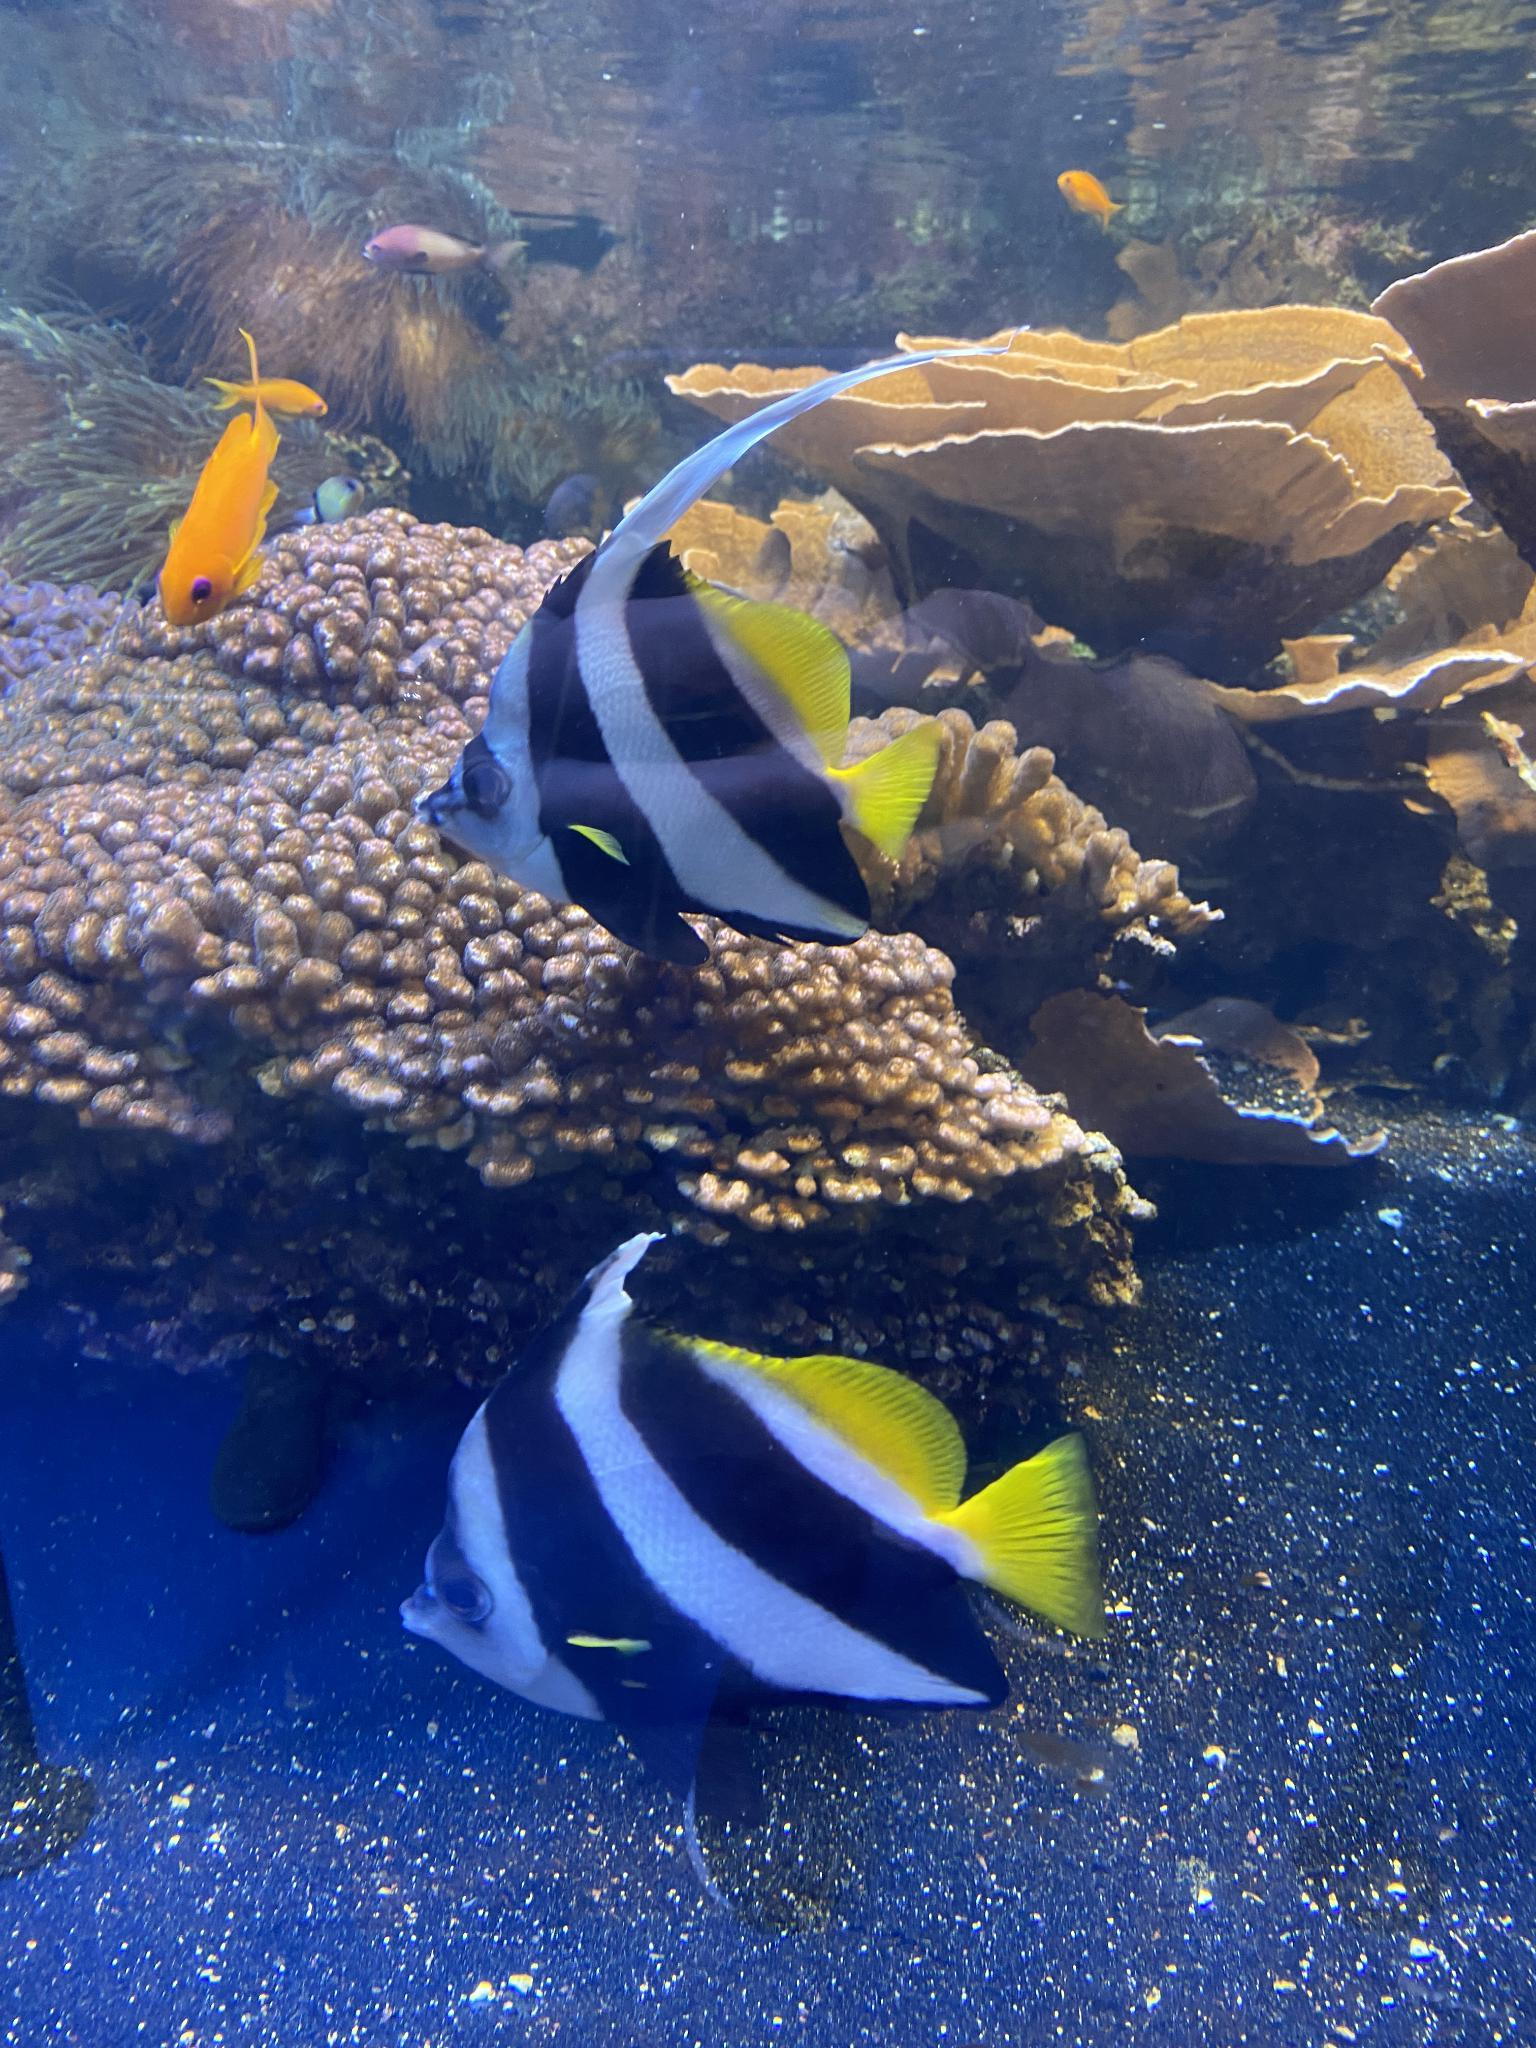fish: (402, 1292, 1096, 1808), (415, 543, 931, 968), (160, 410, 282, 629)
